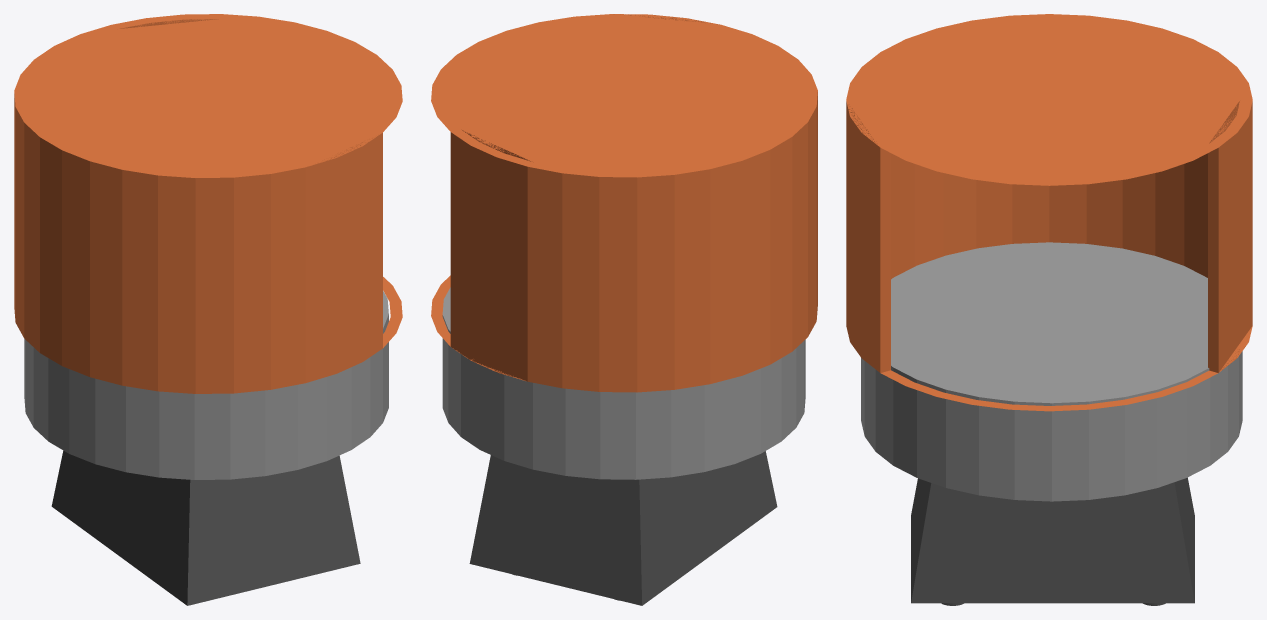
The model's file is wadagasi.fbx.
3 renders of one model, left to right at view 1: azimuth 30°, elevation 25°; view 2: azimuth 150°, elevation 25°; view 3: azimuth 270°, elevation 25°, orthographic. The views are drawn at different scales.
Visible parts, largest first — view 1: 円柱.004; view 2: 円柱.004; view 3: 円柱.004.
Part boxes in pixels (box(x1,y1,x2,y2)): 円柱.004: box(14, 14, 402, 605); 円柱.004: box(431, 14, 817, 605); 円柱.004: box(846, 14, 1252, 605).
Size of the model in its own units: 281 by 361 by 281.
